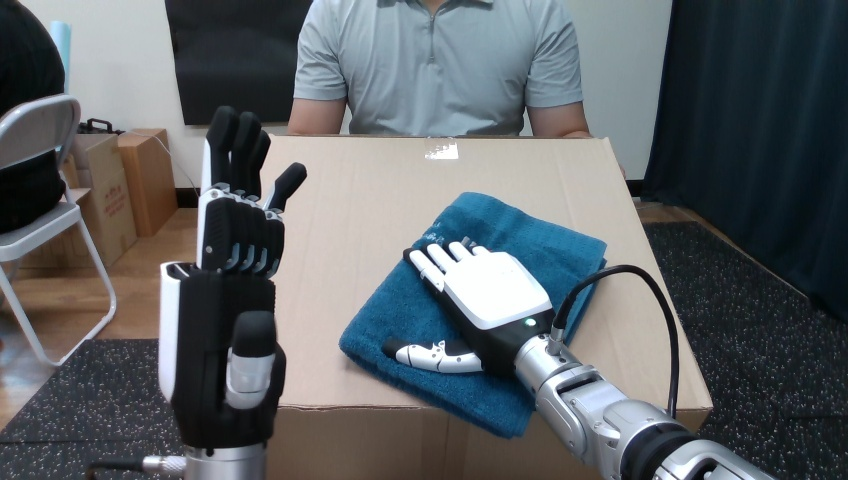left robot arm: (384, 241, 771, 479), (563, 271, 671, 411)
left robot hand: (383, 240, 772, 479), (563, 272, 671, 411)
right robot arm: (384, 241, 772, 479), (563, 271, 671, 411)
right robot hand: (383, 240, 772, 479), (563, 272, 671, 411)
